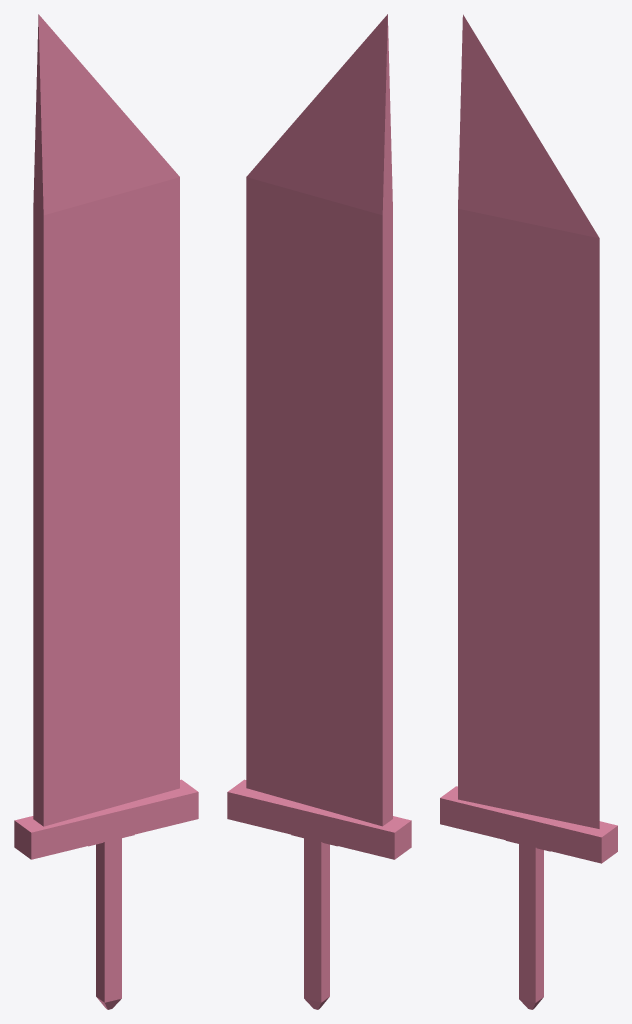
Rendered from buster_sword_v1.glb.
The picture shows the model from 3 angles, left to right: view 1: azimuth 30°, elevation 25°; view 2: azimuth 150°, elevation 25°; view 3: azimuth 330°, elevation 25°; orthographic projection. The views are drawn at different scales.
Visible parts, largest first — view 1: BusterSword; view 2: BusterSword; view 3: BusterSword.
Part boxes in pixels (x1=…): BusterSword: x1=14, y1=14, x2=198, y2=1009; BusterSword: x1=227, y1=14, x2=411, y2=1009; BusterSword: x1=440, y1=14, x2=617, y2=1009.
Bounding box in the file's own units: 0.3428 × 1.98 × 0.0596.
